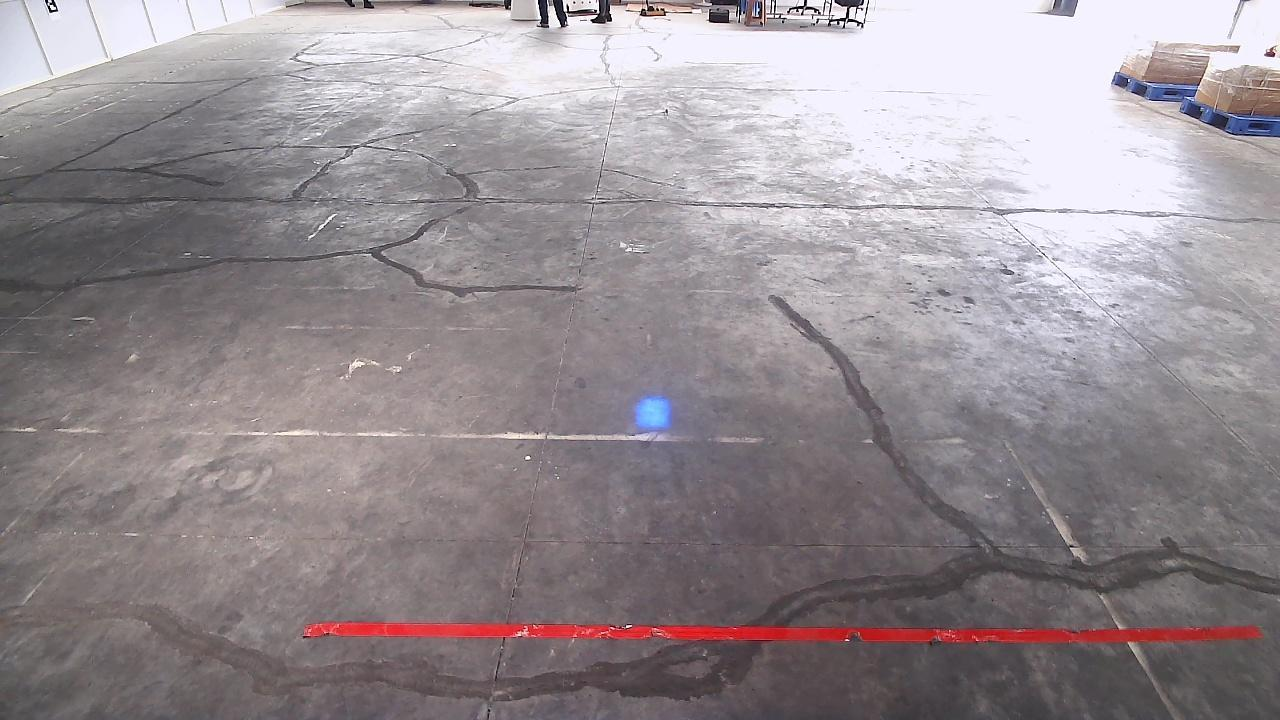red_line: (308, 618, 1262, 650)
